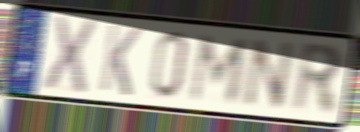0: (149, 28, 192, 103)
K: (97, 21, 144, 99)
M: (186, 32, 252, 106)
N: (239, 36, 299, 112)
R: (290, 39, 344, 119)
X: (40, 13, 99, 95)
